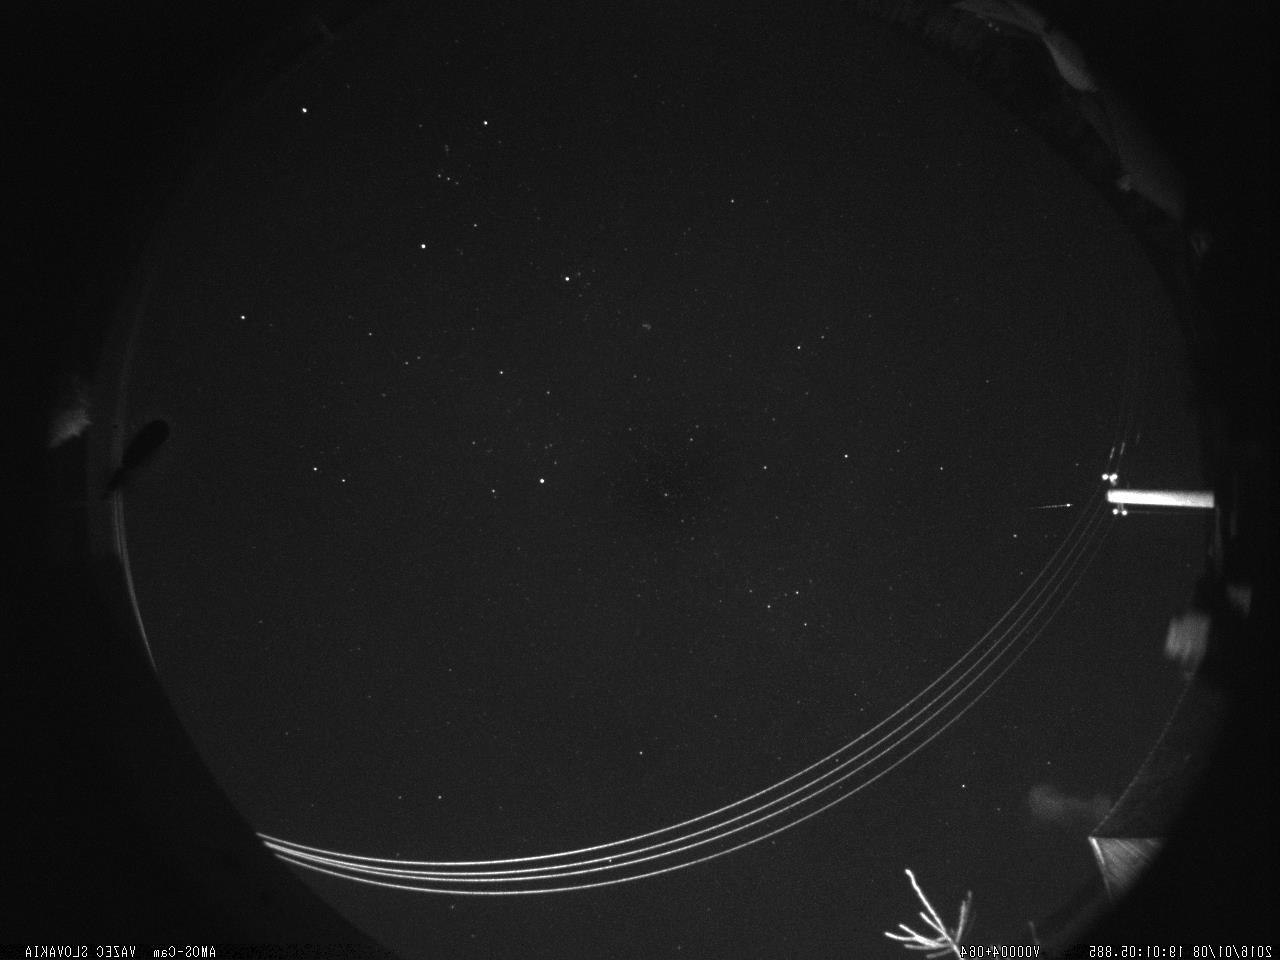meteor: (1015, 489, 1081, 531)
